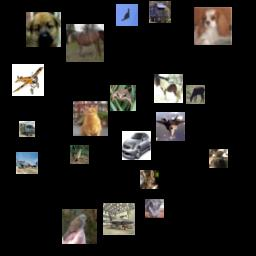airplane: (103, 203, 135, 235), (12, 64, 44, 96), (156, 112, 185, 141), (116, 4, 138, 26), (16, 152, 38, 174)
automobile: (122, 131, 151, 160)
bird: (62, 209, 97, 244), (70, 145, 89, 164)
cat: (73, 101, 108, 136), (145, 199, 164, 218), (140, 170, 159, 189)
deer: (186, 85, 205, 104), (209, 149, 228, 168)
dog: (194, 7, 232, 45), (26, 12, 61, 47)
frog: (110, 85, 136, 111)
truck: (149, 1, 171, 23), (19, 121, 35, 137)
